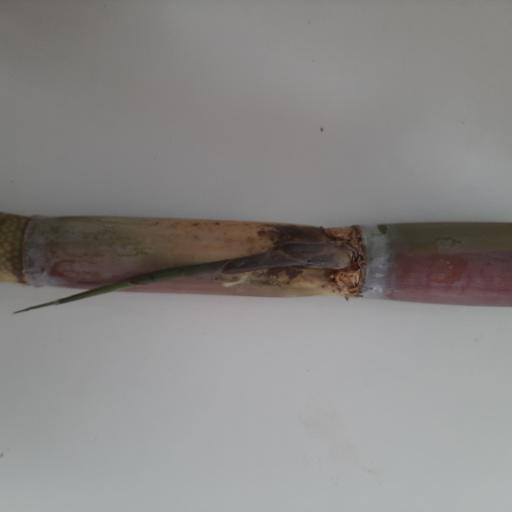Sprouted_Bud: (270, 240, 357, 270)
